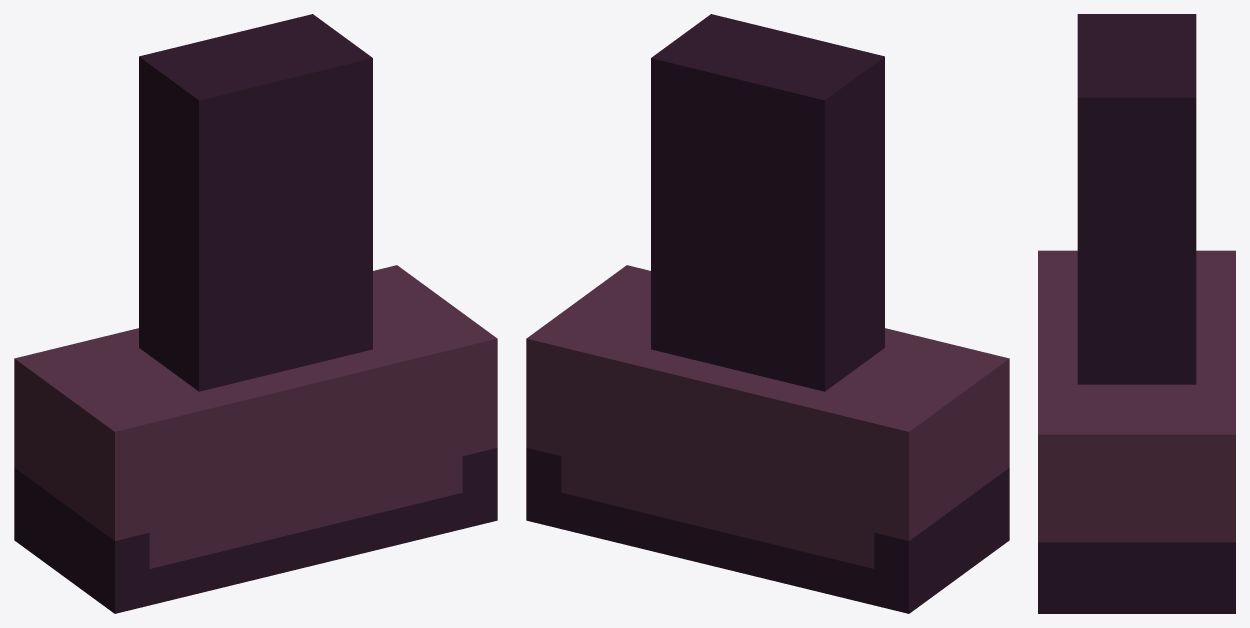
File: sigorta buton.fbx
3 views of the same model, side by side, from view 1: azimuth 30°, elevation 25°; view 2: azimuth 150°, elevation 25°; view 3: azimuth 270°, elevation 25° (orthographic).
Visible parts, largest first — view 1: generated; view 2: generated; view 3: generated.
Boxes of the visible parts, box(x1,y1,x2,y2) form: generated: box(14, 14, 497, 613); generated: box(526, 14, 1009, 613); generated: box(1038, 14, 1235, 613).
Size of the model in its own units: 110 by 130 by 50.
